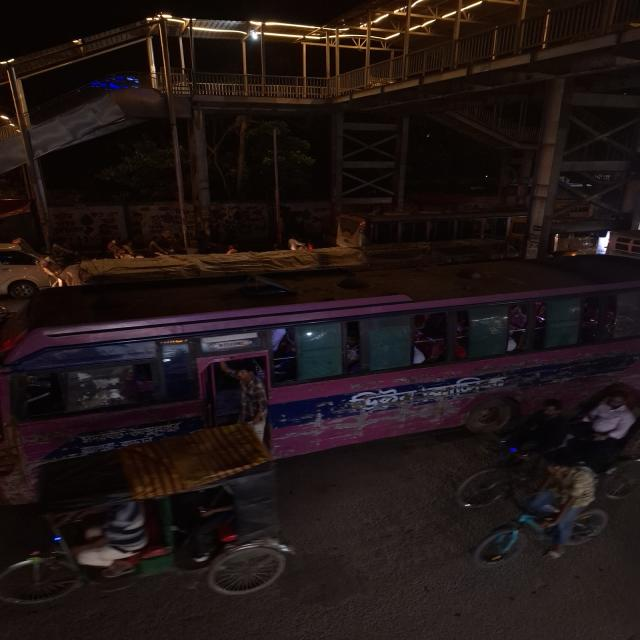bicycle: (454, 483, 616, 578)
bus: (0, 264, 636, 460)
car: (0, 248, 59, 302)
rickshaw: (1, 417, 302, 616)
